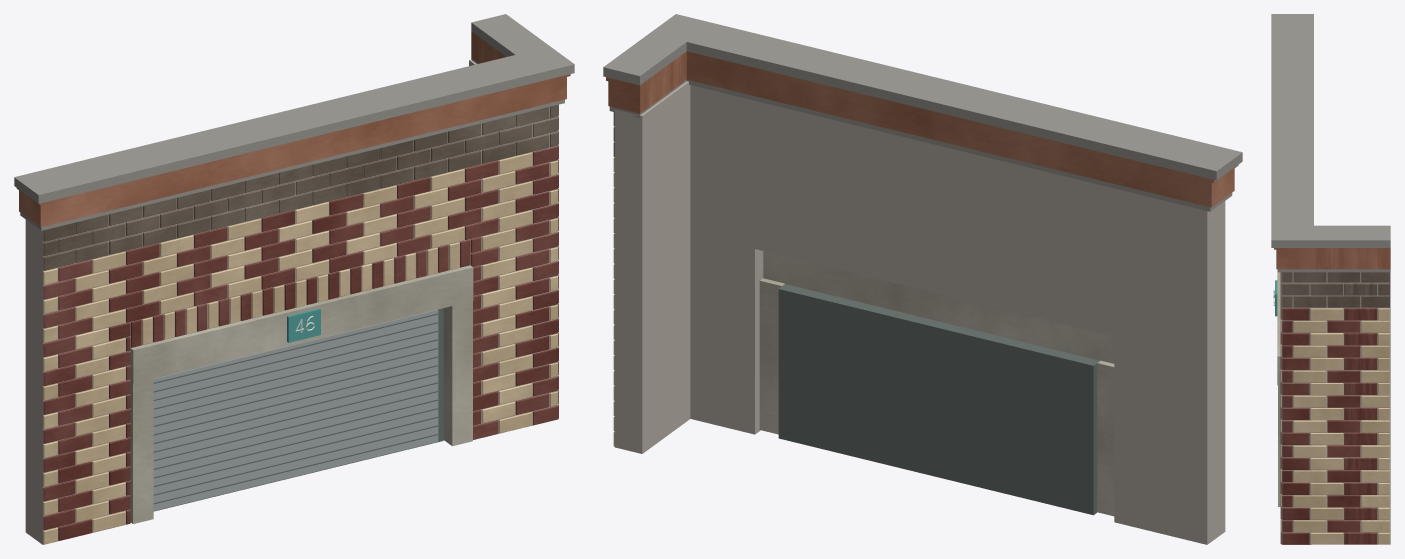
File: xinle-46-two-tone-tilework-near.glb
3 views of the same model, side by side, from view 1: azimuth 30°, elevation 25°; view 2: azimuth 150°, elevation 25°; view 3: azimuth 270°, elevation 25° (orthographic). The views are drawn at different scales.
Visible parts, largest first — view 1: 慎成里新乐路46号双色陶面砖与竖砖过梁; view 2: 慎成里新乐路46号双色陶面砖与竖砖过梁; view 3: 慎成里新乐路46号双色陶面砖与竖砖过梁.
Boxes of the visible parts, x1,y1,x2,y2 form: 慎成里新乐路46号双色陶面砖与竖砖过梁: (14, 14, 574, 544); 慎成里新乐路46号双色陶面砖与竖砖过梁: (603, 14, 1242, 544); 慎成里新乐路46号双色陶面砖与竖砖过梁: (1271, 14, 1390, 544).
Size of the model in its own units: 4.83 by 3.07 by 1.07.
Materials: 11 (5 with a texture image).
